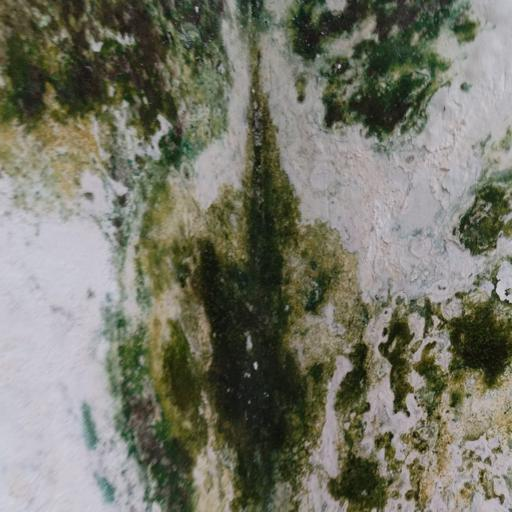algae: (6, 4, 503, 486)
